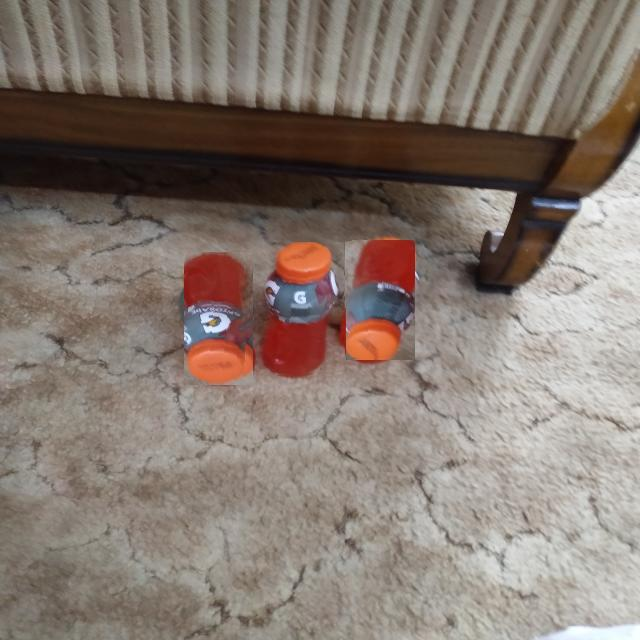Plastic: (265, 242, 345, 376), (184, 252, 253, 386), (344, 240, 415, 360)
